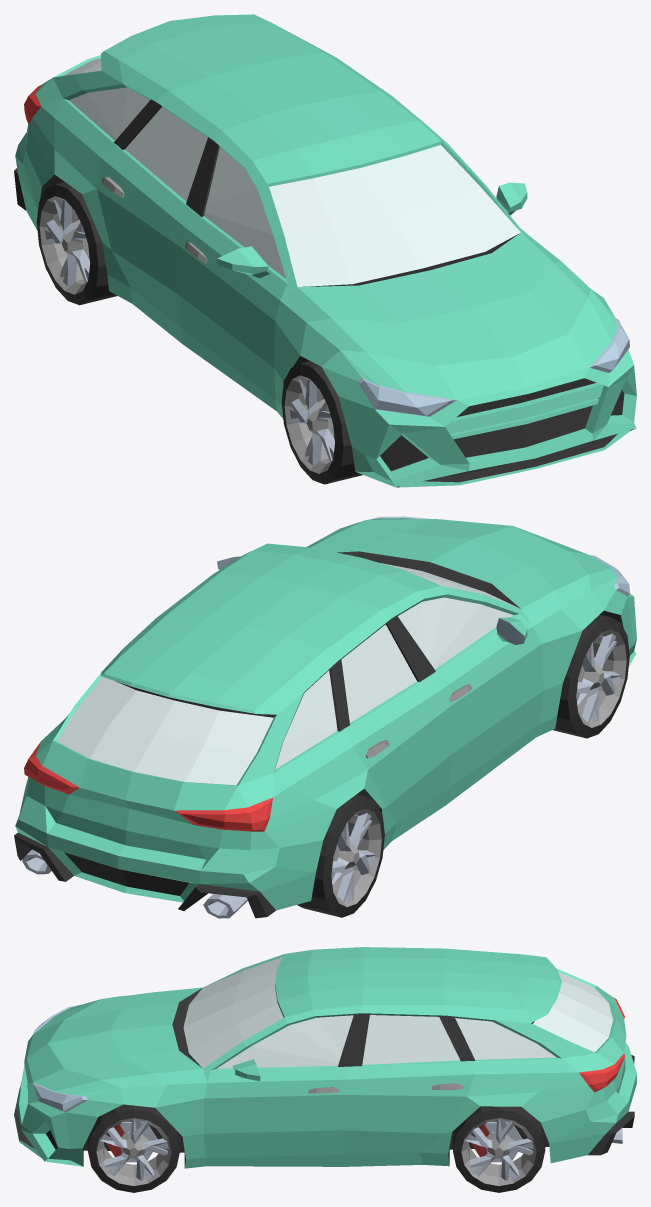
3 renders of one model, top to bottom at view 1: azimuth 30°, elevation 25°; view 2: azimuth 150°, elevation 25°; view 3: azimuth 270°, elevation 25°, orthographic. The views are drawn at different scales.
Visible parts, largest first — view 1: a6_body, a6_wheel_FR, a6_wheel_RR; view 2: a6_body, a6_wheel_RR, a6_wheel_FR; view 3: a6_body, a6_wheel_RL, a6_wheel_FL, a6_brakedisk_FL.
Boxes of the visible parts, box(x1,y1,x2,y2) form: a6_body: box(14, 14, 636, 487); a6_wheel_FR: box(281, 361, 362, 484); a6_wheel_RR: box(36, 182, 117, 305); a6_body: box(14, 516, 636, 918); a6_wheel_RR: box(297, 794, 384, 917); a6_wheel_FR: box(553, 614, 629, 738); a6_body: box(14, 947, 636, 1168); a6_wheel_RL: box(453, 1106, 545, 1192); a6_wheel_FL: box(87, 1104, 180, 1192); a6_brakedisk_FL: box(106, 1121, 157, 1162).
Bounding box in the file's own units: 3.39 × 1.01 × 1.44.
